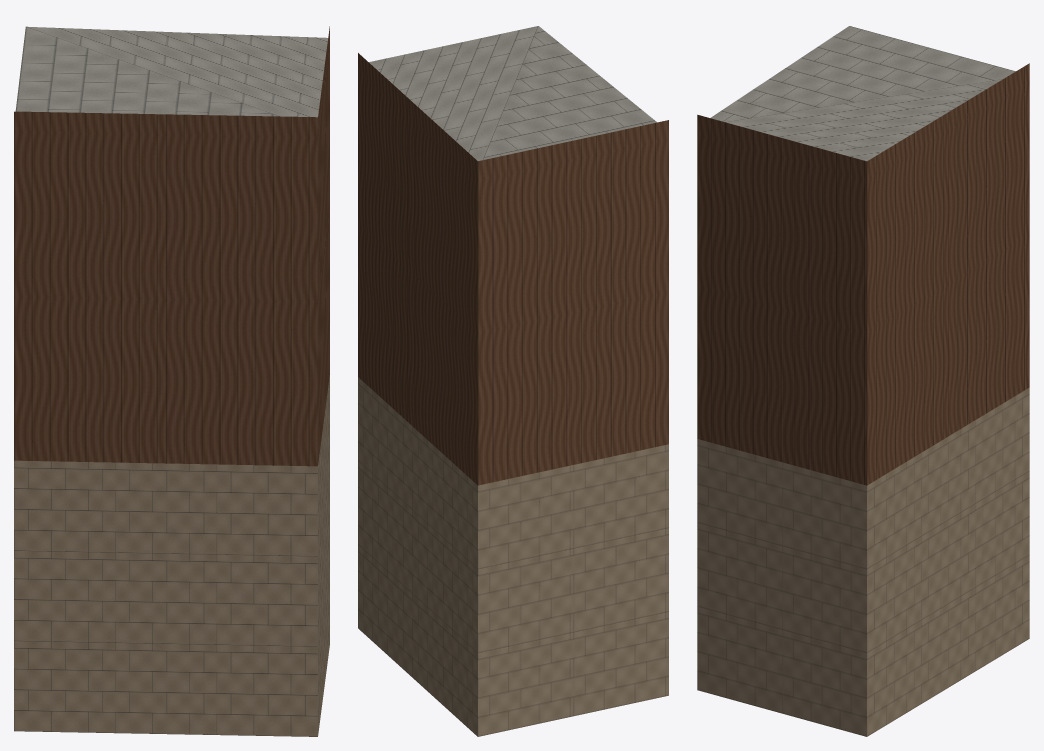
File: bld_c-22_11_540.gltf
3 views of the same model, side by side, from view 1: azimuth 30°, elevation 25°; view 2: azimuth 150°, elevation 25°; view 3: azimuth 270°, elevation 25° (orthographic). The views are drawn at different scales.
Visible parts, largest first — view 1: bld_c-22_11_540; view 2: bld_c-22_11_540; view 3: bld_c-22_11_540.
Boxes of the visible parts, box(x1,y1,x2,y2) form: bld_c-22_11_540: box(14, 26, 329, 736); bld_c-22_11_540: box(358, 26, 668, 736); bld_c-22_11_540: box(697, 26, 1029, 736).
Size of the model in its own units: 6.41 by 11.68 by 6.11.
Materials: 4 (4 with a texture image).
